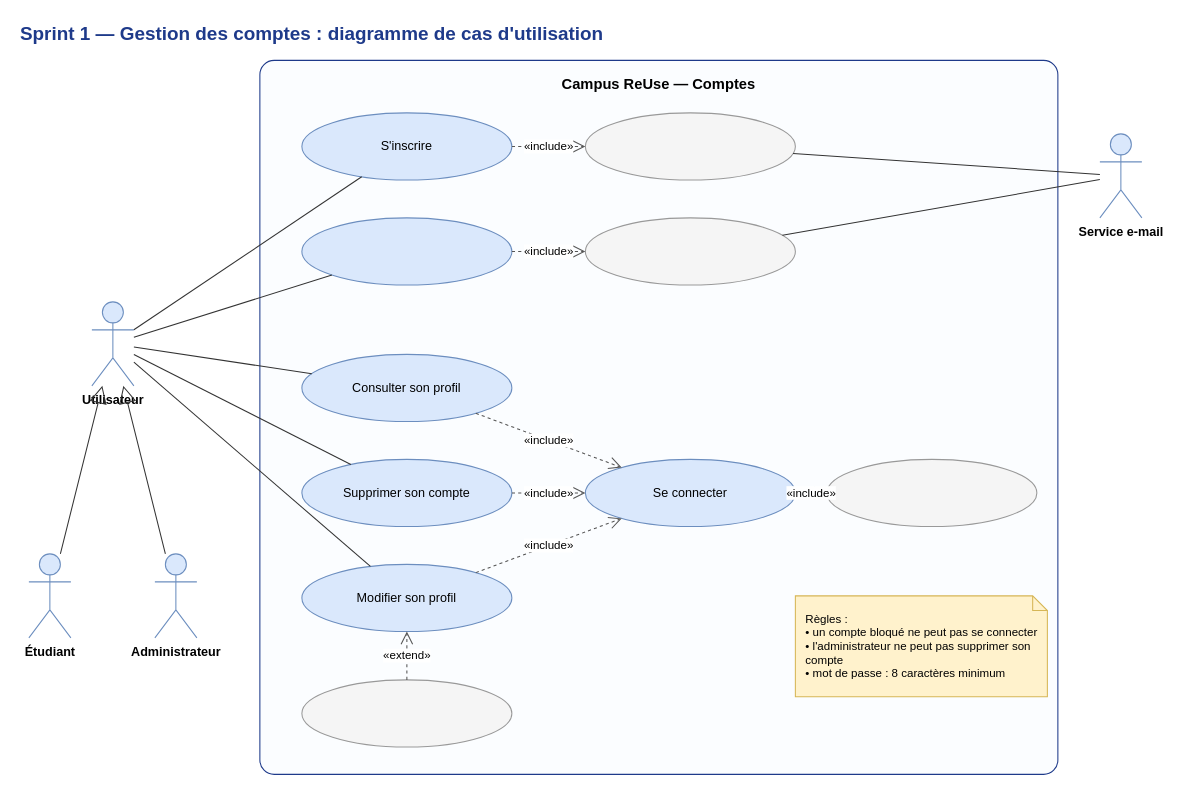
Some shapes in this 1181 by 793 pixel diagram are drawn without their labels. Here are the shapes that lost their labels. From the top down, the box of each, then its label:
(584, 112, 795, 180): Confirmer son adresse e-mail
(301, 217, 512, 285): Réinitialiser son mot de passe
(584, 217, 795, 285): Recevoir le lien de réinitialisation (valable 30 min)
(826, 458, 1037, 527): Limiter les tentatives (5 échecs → 15 min)
(301, 679, 512, 747): Changer sa photo de profil
